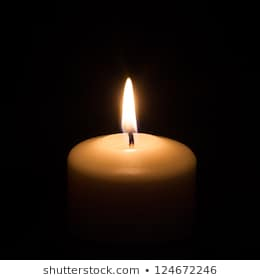Fire: (118, 77, 141, 136)
